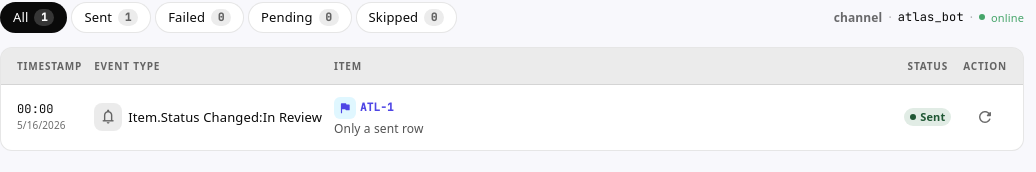
Test: NotificationLogTabContent › desktop view: "No deliveries match this filter" shown when a filter yields zero rows
What coordinates should you click on to do the following:
click the text "Failed"
I would click on:
 (187, 17)
Its box is [168,7,205,28].
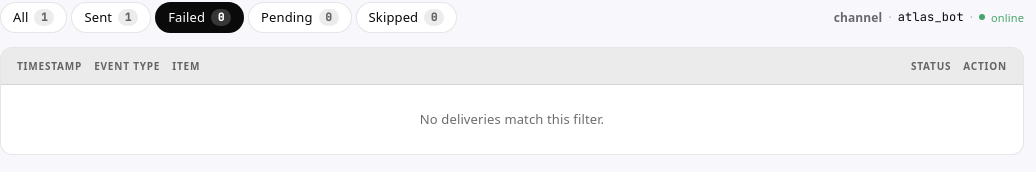
Check: the text "No deliveries match this filter." is shown, box [420,110,604,128]
